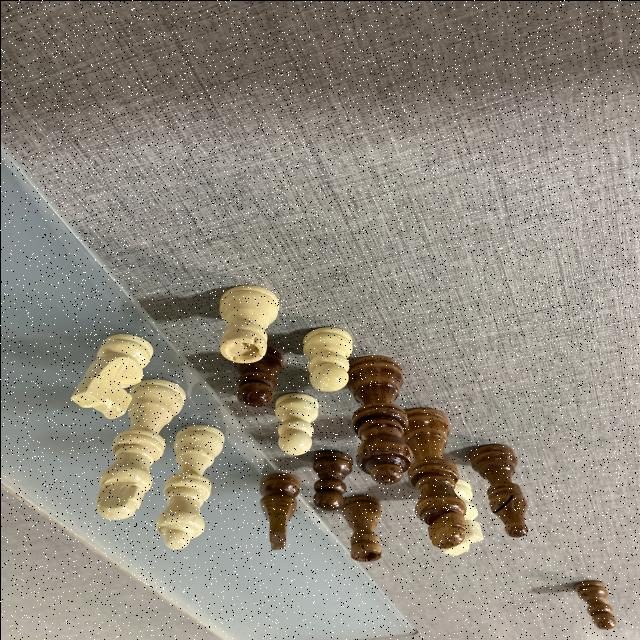Black-Bishop: (466, 443, 532, 537)
Black-King: (401, 406, 467, 548)
Black-Knight: (256, 471, 298, 549)
Black-Pawn: (235, 344, 285, 406), (308, 450, 352, 510), (570, 578, 616, 630)
Black-Queen: (346, 354, 416, 486)
Black-Rook: (336, 492, 382, 562)
White-King: (94, 378, 184, 520)
White-Knight: (68, 332, 154, 419), (438, 476, 481, 556)
White-Pawn: (298, 324, 353, 392), (271, 392, 319, 454)
White-Queen: (152, 423, 225, 549)
White-Rook: (215, 284, 279, 364)
